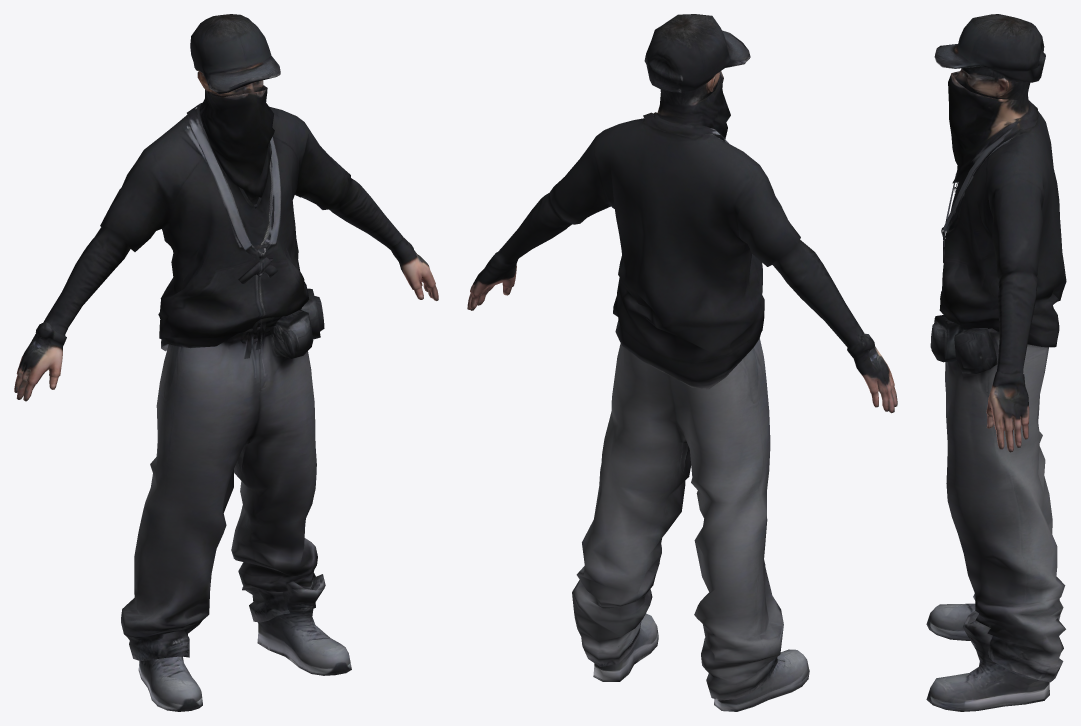
The model's file is Joshua.glb.
3 views of the same model, side by side, from view 1: azimuth 30°, elevation 25°; view 2: azimuth 150°, elevation 25°; view 3: azimuth 270°, elevation 25° (orthographic).
Bounding box in the file's own units: 1.35 × 2 × 0.3921.
Materials: 1 (1 with a texture image).
